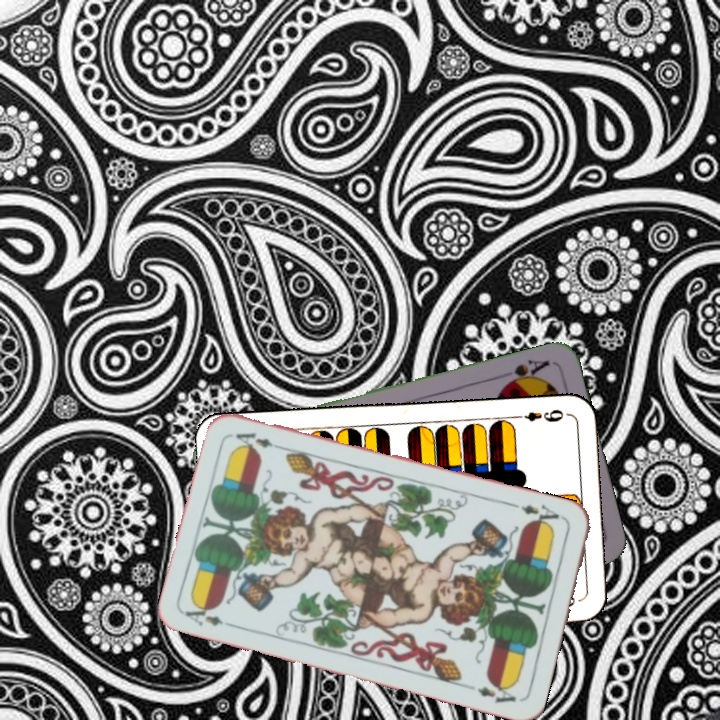E9: (510, 405, 566, 424)
EA: (181, 600, 239, 631), (517, 500, 568, 530)
SA: (496, 355, 552, 390)
